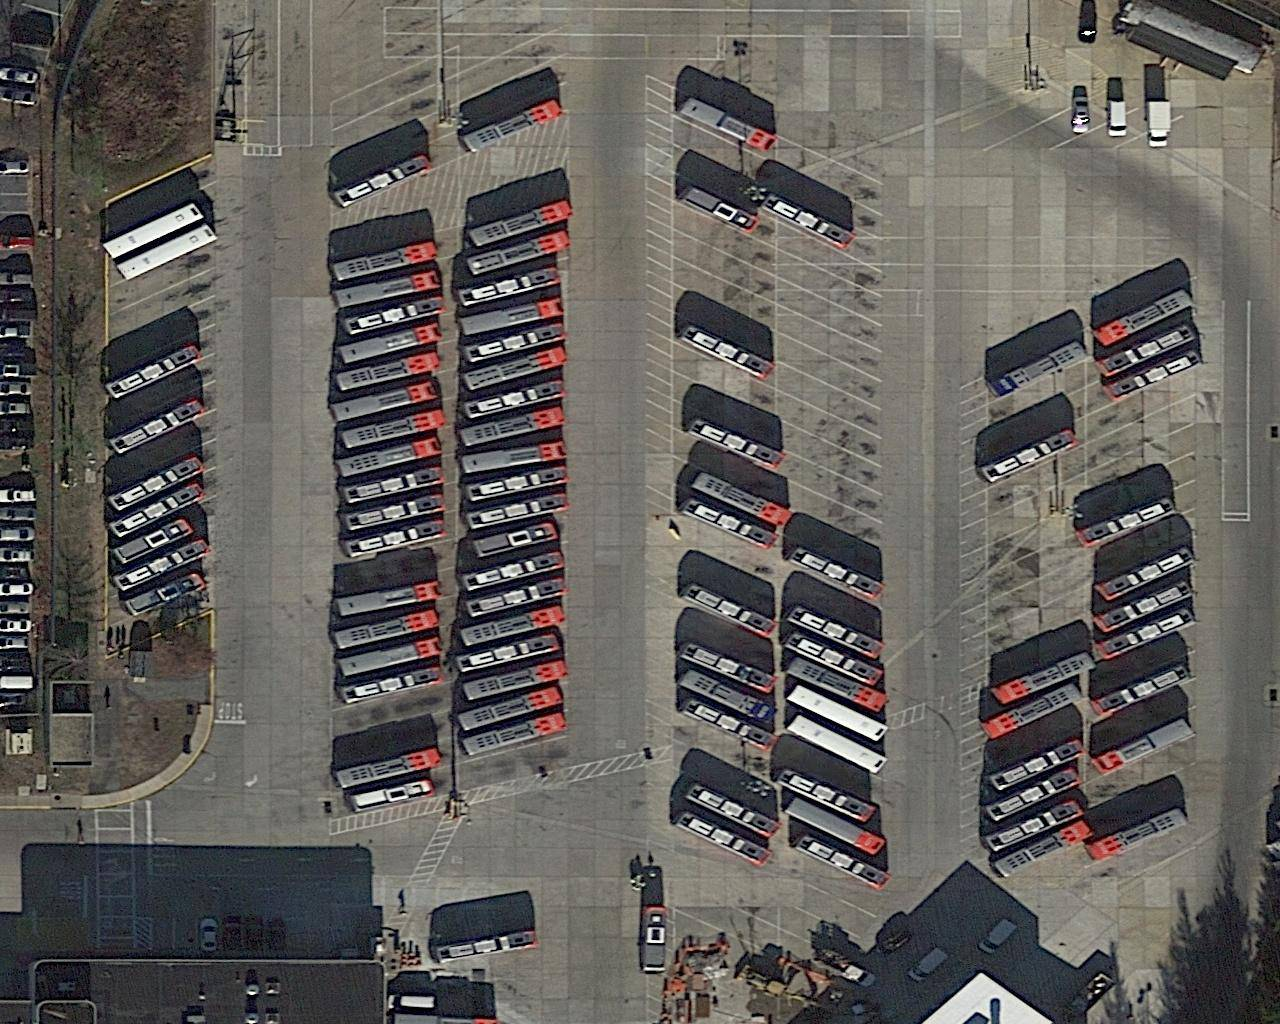large vehicle: (984, 732, 1092, 797), (1090, 718, 1197, 779), (987, 647, 1095, 708), (115, 223, 220, 284), (783, 601, 889, 661), (671, 809, 775, 870), (786, 715, 890, 776), (981, 766, 1087, 825), (1091, 659, 1196, 719), (676, 96, 779, 157), (102, 201, 206, 261), (104, 343, 203, 406), (466, 195, 579, 251), (691, 470, 792, 532), (1093, 286, 1194, 348), (779, 629, 888, 686), (328, 152, 435, 210), (992, 821, 1098, 880), (775, 766, 880, 825), (461, 100, 566, 159), (686, 781, 785, 843), (787, 797, 888, 858), (680, 583, 779, 645), (987, 341, 1092, 399), (1094, 319, 1198, 377), (106, 453, 206, 514), (1090, 544, 1197, 601), (781, 543, 889, 599), (1084, 809, 1190, 865), (675, 323, 777, 381), (1092, 579, 1194, 637), (791, 684, 891, 744), (109, 479, 207, 539), (976, 429, 1079, 487), (677, 639, 779, 697), (1094, 605, 1194, 664), (674, 698, 782, 752), (111, 538, 214, 595), (1101, 348, 1203, 405), (675, 669, 774, 727), (685, 415, 788, 471), (982, 685, 1085, 742), (106, 397, 206, 455), (677, 498, 781, 554), (795, 832, 892, 890), (453, 686, 569, 735), (786, 659, 892, 712), (1075, 494, 1176, 549), (985, 799, 1083, 855), (466, 232, 573, 282), (763, 192, 861, 247), (328, 239, 444, 285), (461, 319, 569, 367), (459, 346, 568, 393), (461, 712, 571, 759), (334, 633, 446, 679), (460, 377, 568, 424), (331, 606, 444, 651), (459, 546, 568, 592), (339, 408, 448, 453), (464, 659, 573, 705), (457, 605, 569, 649), (453, 632, 562, 676), (456, 296, 566, 339), (456, 406, 566, 449), (335, 324, 446, 367), (334, 350, 445, 393), (333, 436, 444, 479), (456, 265, 563, 309), (329, 267, 442, 309), (341, 295, 450, 338), (329, 380, 439, 423), (465, 578, 571, 622), (339, 665, 449, 706), (336, 746, 441, 790), (679, 178, 760, 234), (340, 520, 447, 562), (466, 493, 572, 535), (341, 465, 446, 507), (332, 580, 443, 619), (111, 517, 194, 568), (463, 466, 571, 506), (343, 493, 450, 532), (460, 442, 571, 476), (125, 571, 206, 616), (473, 522, 559, 559), (350, 779, 433, 813)
small vehicle: (817, 950, 881, 992), (1144, 101, 1173, 149), (1, 360, 40, 382), (1, 66, 40, 87), (1107, 99, 1128, 136), (1069, 95, 1089, 135), (1, 86, 39, 107), (0, 507, 38, 523), (0, 616, 34, 634), (0, 306, 37, 323), (1, 546, 34, 564), (0, 271, 34, 287), (1, 527, 36, 543), (1, 381, 36, 397), (1, 488, 36, 504), (0, 581, 34, 597), (1, 289, 34, 305), (0, 324, 32, 340), (0, 400, 32, 416), (0, 601, 33, 615), (1, 159, 30, 174), (0, 236, 34, 249), (1, 635, 28, 650)
